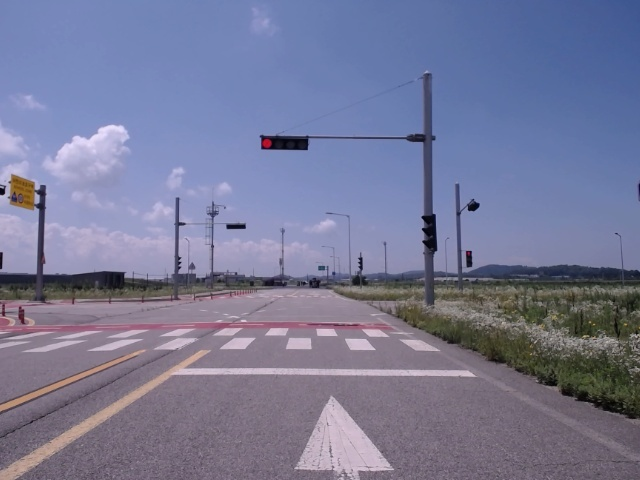red_4: (261, 138, 308, 150)
